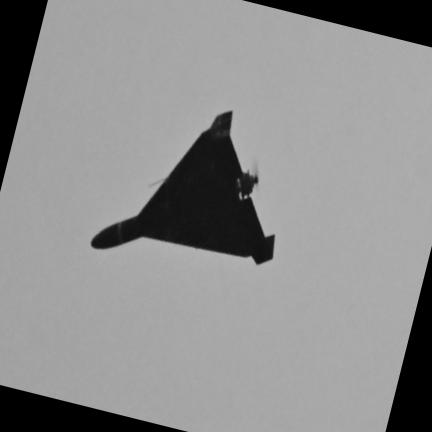Shahed: (90, 111, 274, 265)
